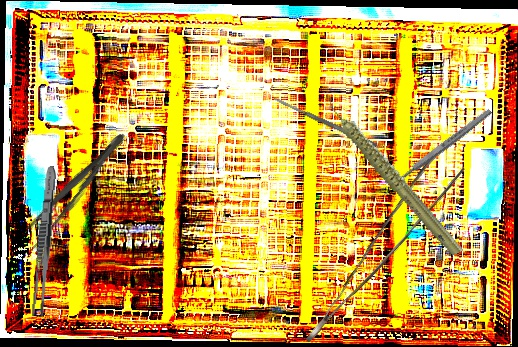Dressing Forceps: (14, 125, 133, 256), (30, 165, 59, 318)
Handpiece: (324, 74, 465, 276)
Spatula Surgical: (273, 95, 378, 149)
Surgical Spoon: (379, 107, 494, 196)
Tissue Forceps: (276, 145, 475, 343)
